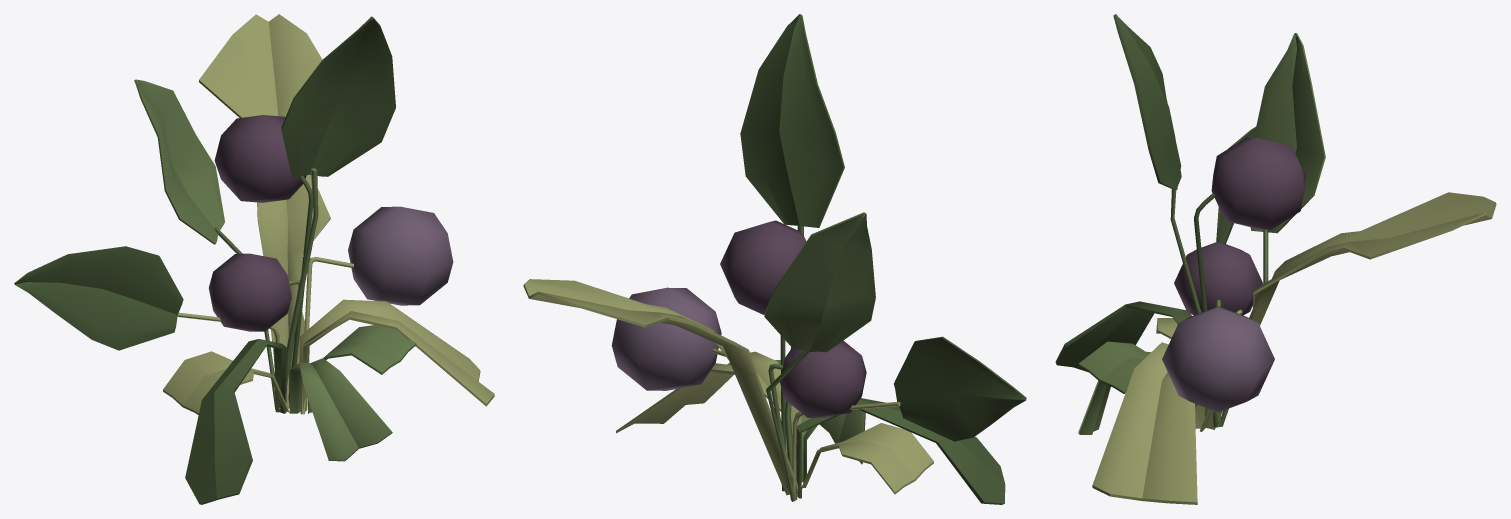
Rendered from SM_Blueberry_Plant.fbx.
The picture shows the model from 3 angles, left to right: view 1: azimuth 30°, elevation 25°; view 2: azimuth 150°, elevation 25°; view 3: azimuth 270°, elevation 25°; orthographic projection. The views are drawn at different scales.
Parts seen in each view (by area): view 1: SM_Blueberry_Plant; view 2: SM_Blueberry_Plant; view 3: SM_Blueberry_Plant.
Part boxes in pixels (x1,y1,x2,y2): SM_Blueberry_Plant: [14, 14, 494, 504]; SM_Blueberry_Plant: [523, 14, 1026, 504]; SM_Blueberry_Plant: [1055, 14, 1496, 504].
Size of the model in its own units: 121 by 119 by 105.
